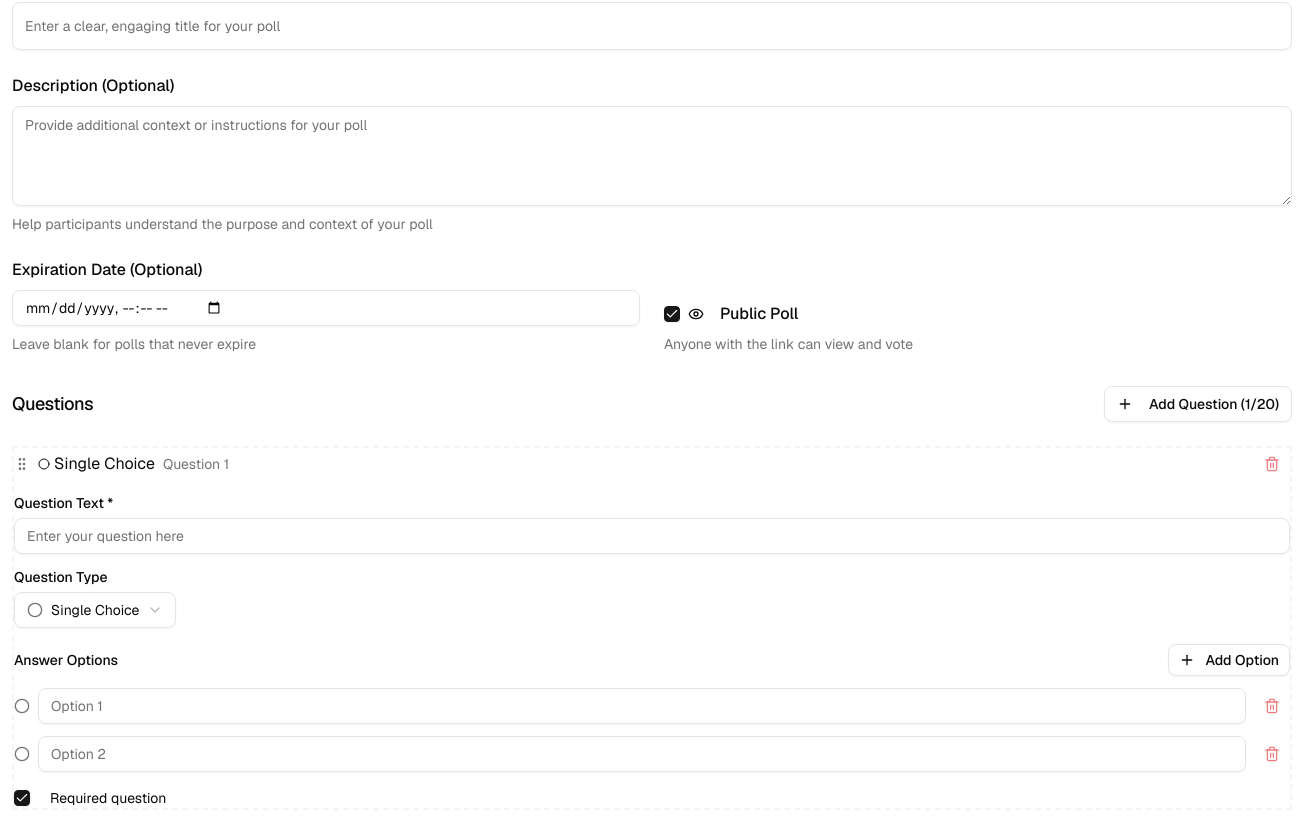
Test: CreatePollForm (short tests) › can add a question
Click the button "Add Question (1/20)" at (1198, 404), box x1=1104 y1=386 x2=1292 y2=422
(page scrolled)
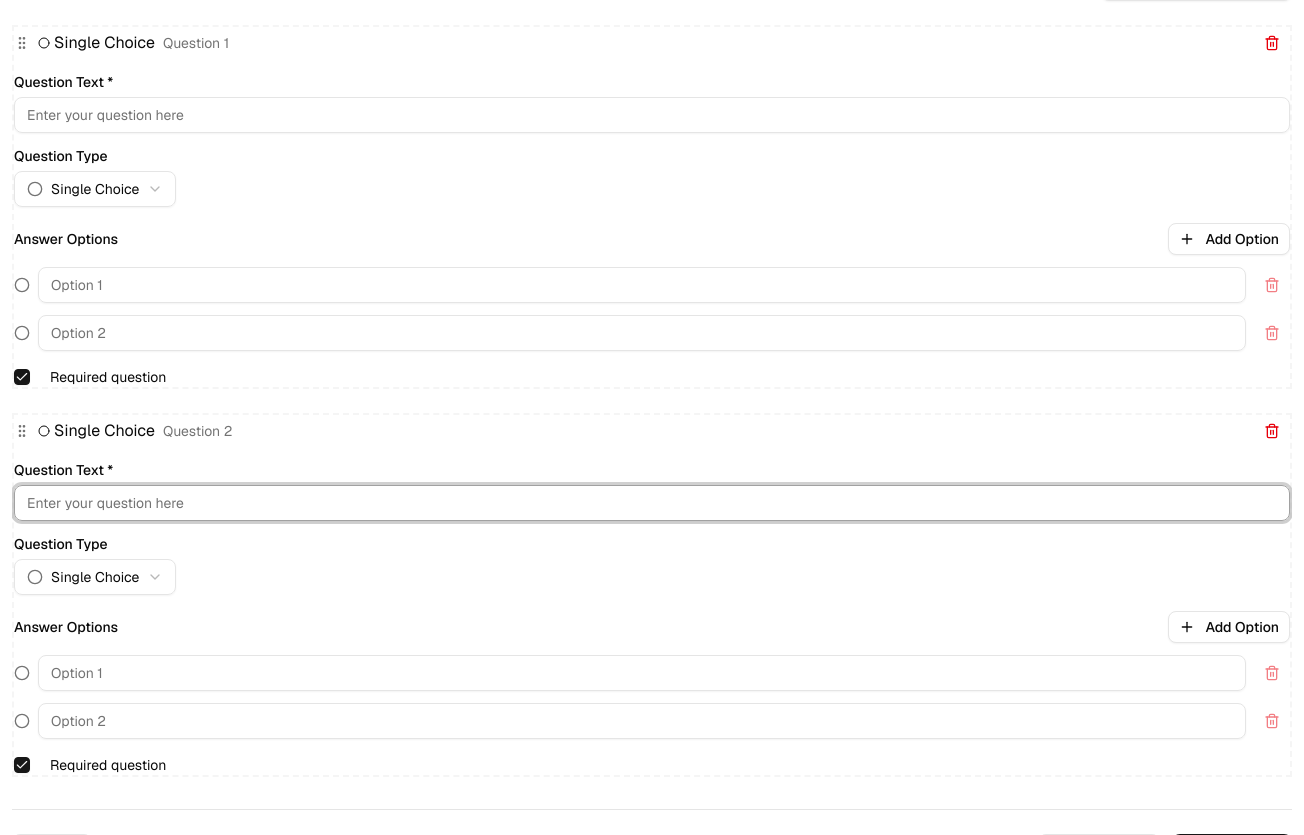
Now the text "Question 2" is shown, box x1=163 y1=421 x2=232 y2=441
